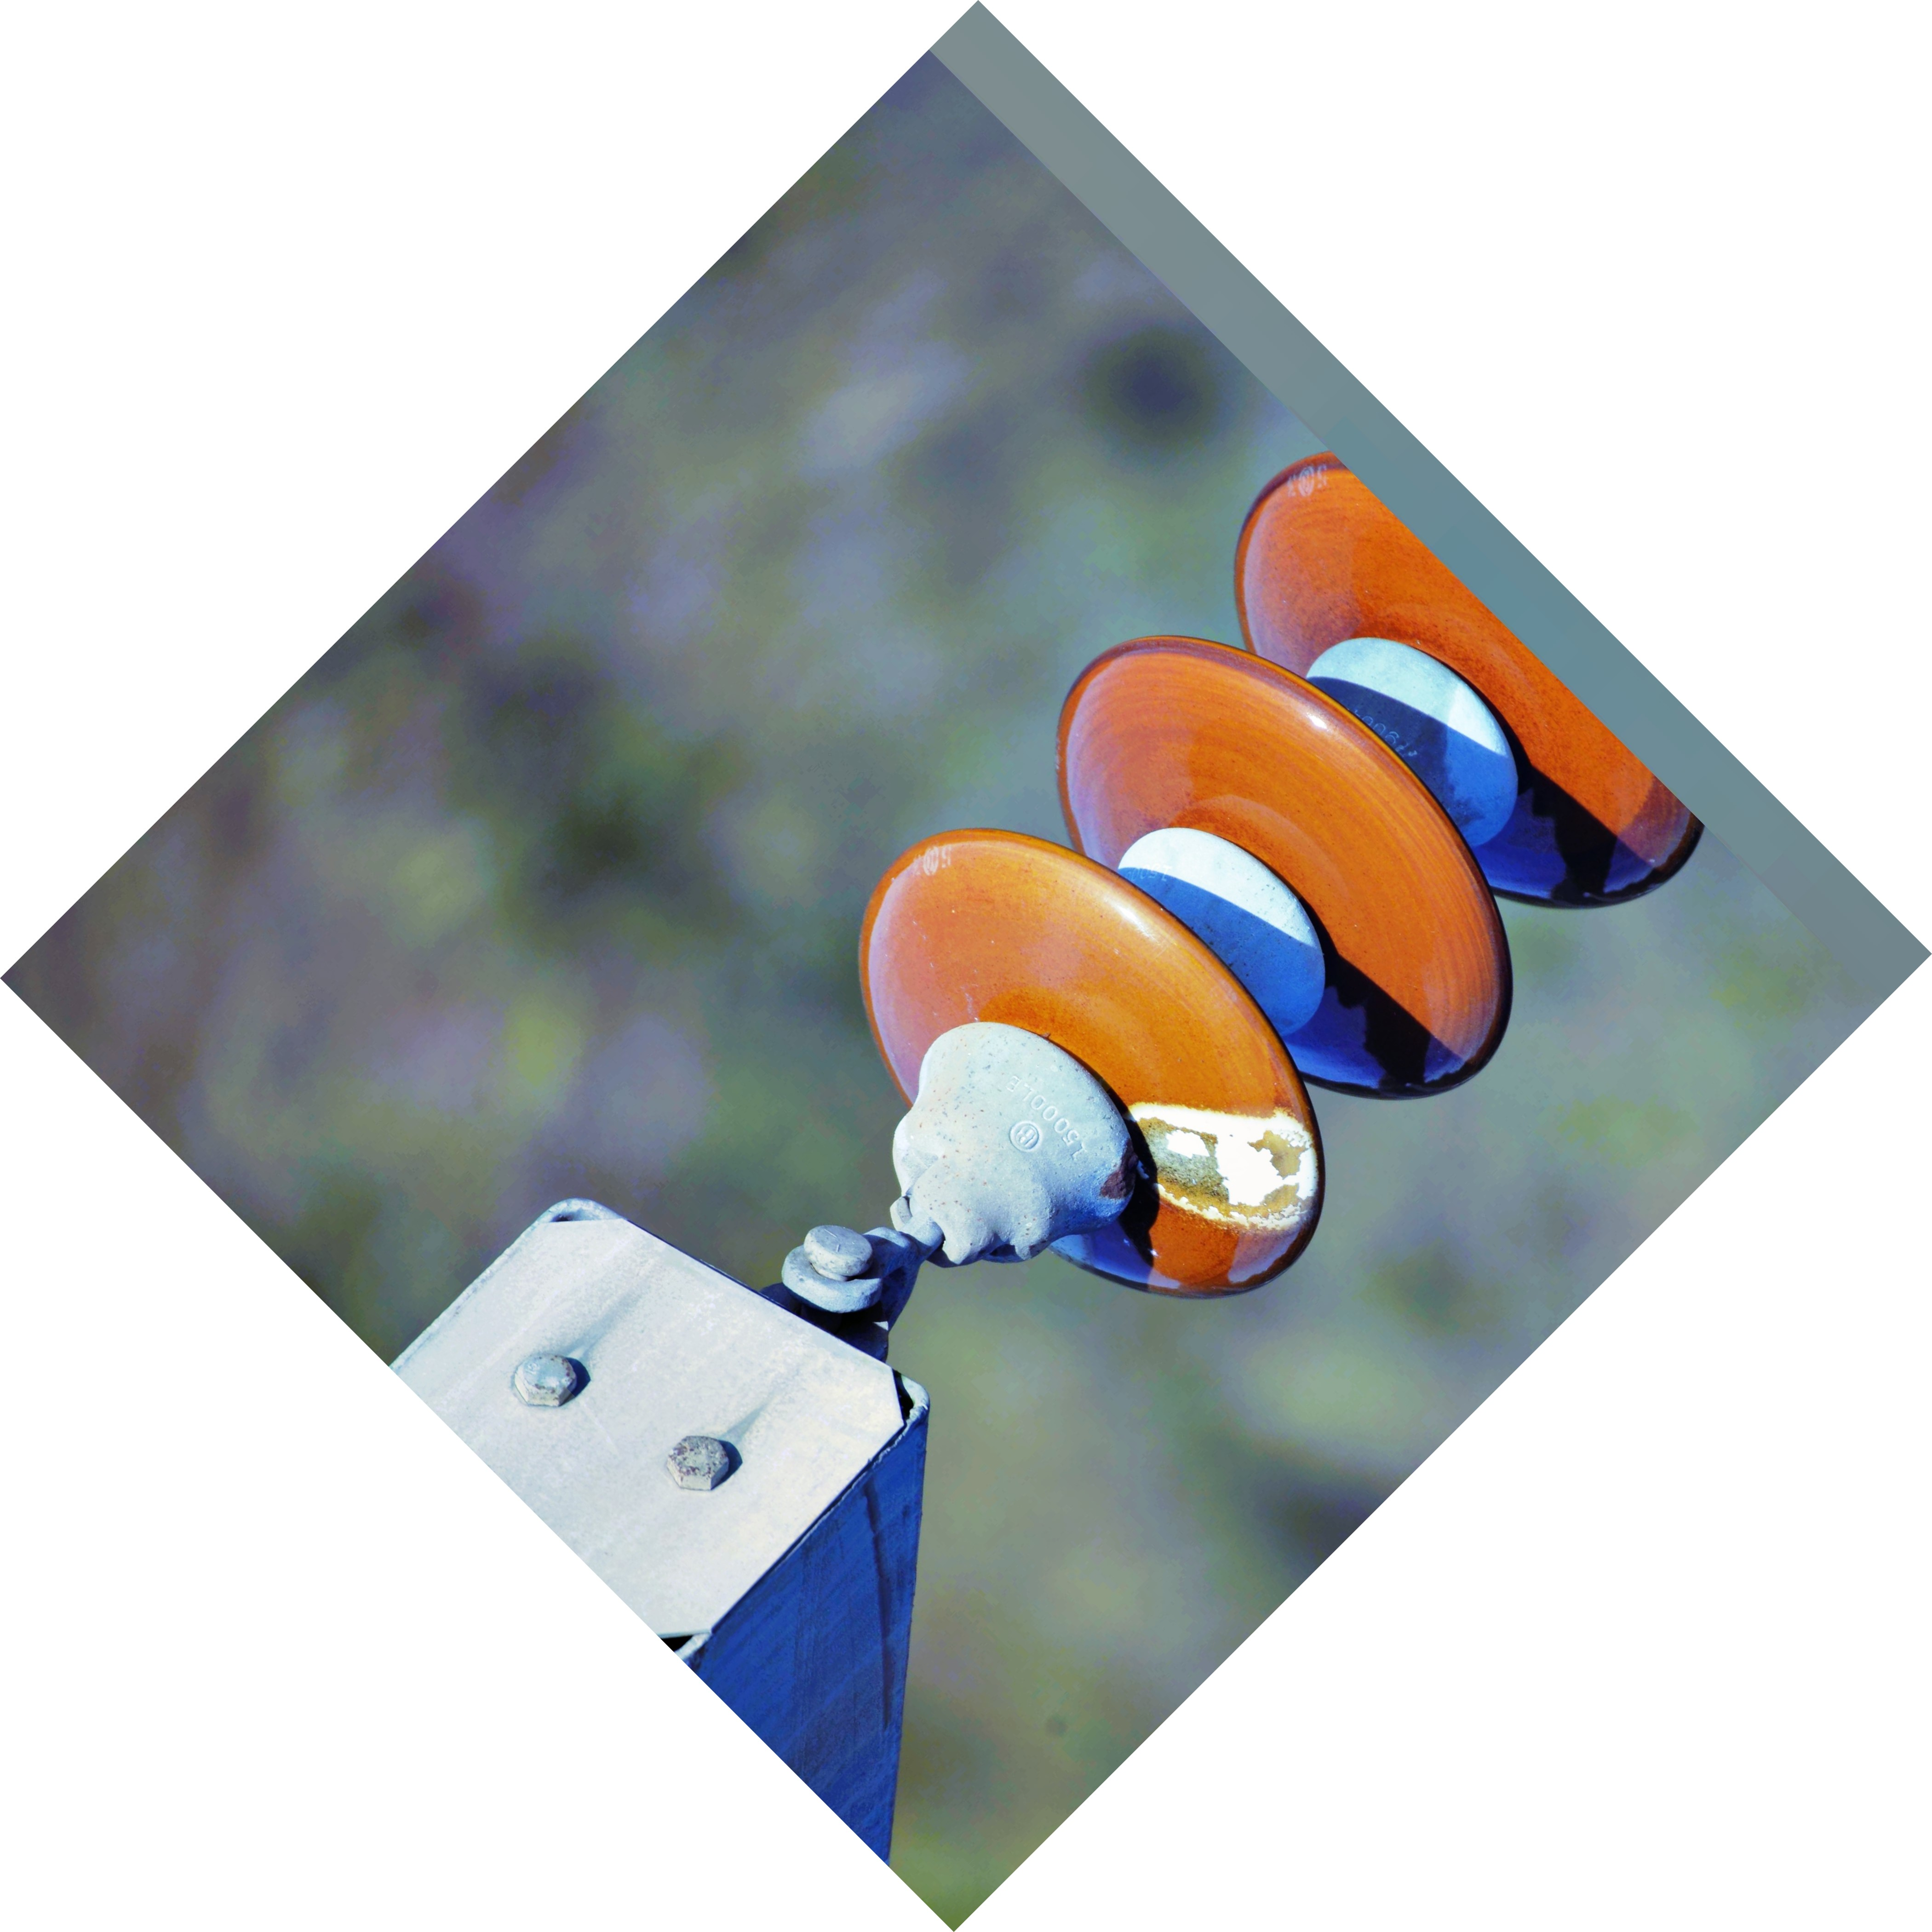Insulator flashover: (826, 807, 1338, 1311)
